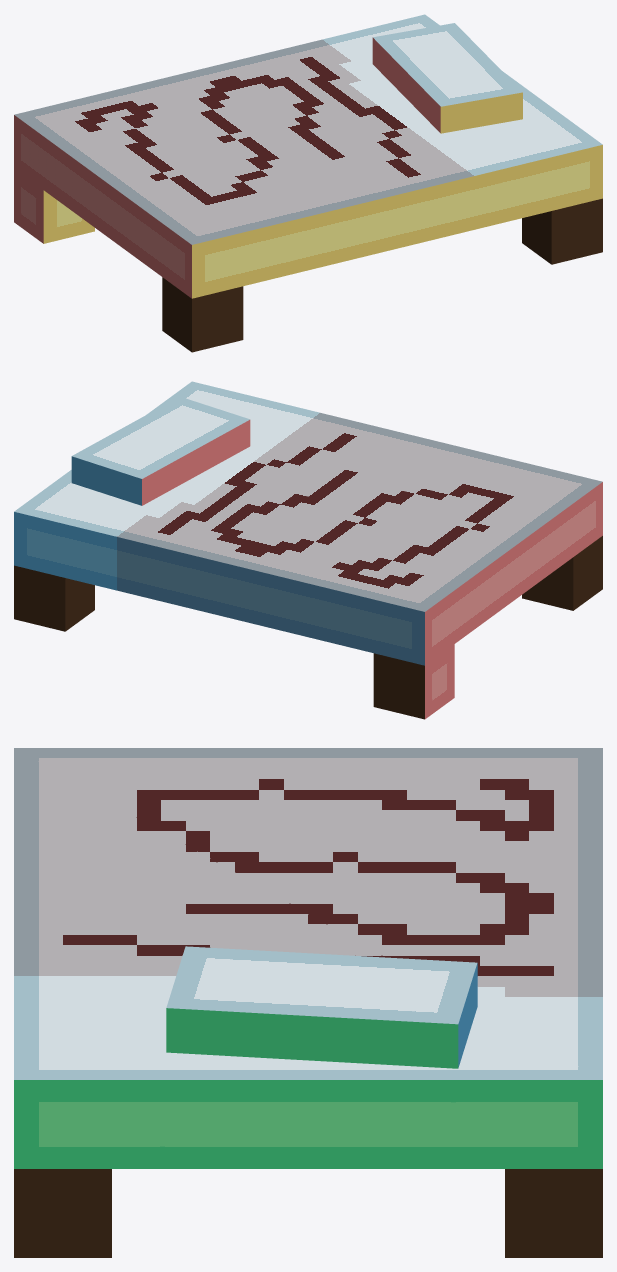
Rendered from bed-HZ3EENI2.gltf.
3 views of the same model, one above another, from view 1: azimuth 30°, elevation 25°; view 2: azimuth 150°, elevation 25°; view 3: azimuth 270°, elevation 25° (orthographic). The views are drawn at different scales.
Parts seen in each view (by area): view 1: matress, cube (×3), pillow; view 2: matress, pillow, cube (×3); view 3: matress, pillow, cube (×2).
Part boxes in pixels (x1,y1,x2,y2): matress: [14, 14, 602, 298]; cube (×3): [14, 169, 602, 352]; pillow: [372, 23, 522, 133]; matress: [14, 381, 602, 665]; pillow: [71, 396, 250, 505]; cube (×3): [14, 536, 602, 719]; matress: [14, 748, 602, 1168]; pillow: [166, 946, 477, 1068]; cube (×2): [14, 1169, 602, 1257].
Size of the model in its own units: 1 by 0.3125 by 0.75.
1 material, 1 textured.
